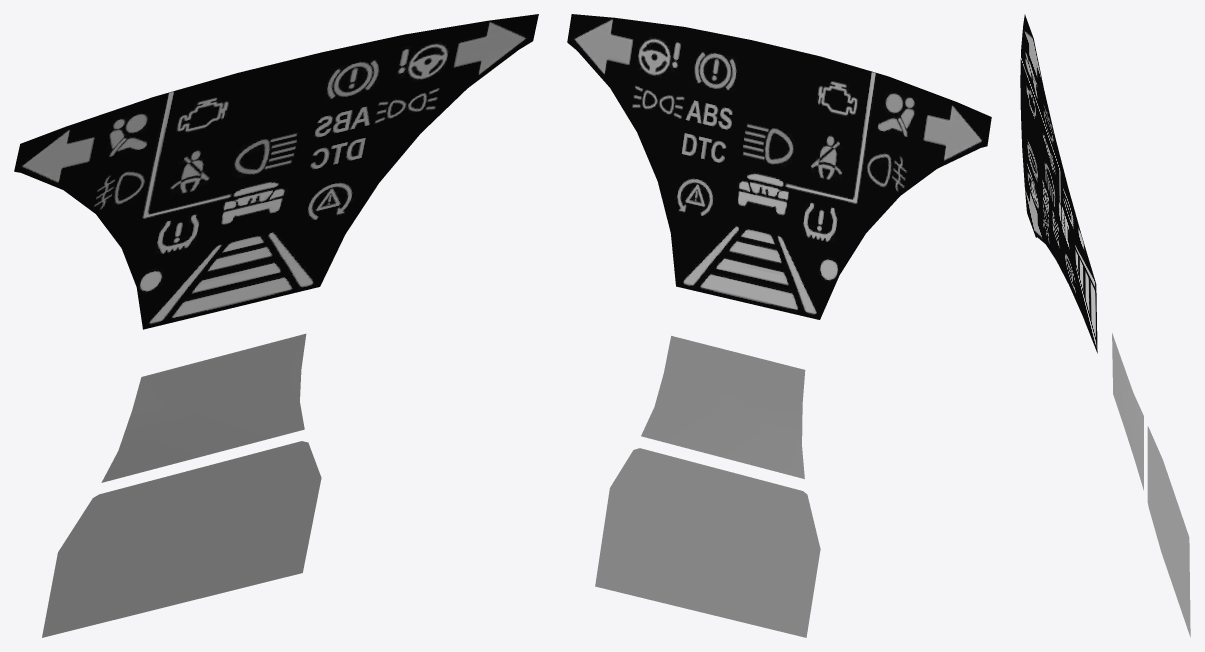
Rendered from Warnings.fbx.
3 renders of one model, left to right at view 1: azimuth 30°, elevation 25°; view 2: azimuth 150°, elevation 25°; view 3: azimuth 270°, elevation 25°, orthographic. The views are drawn at different scales.
Visible parts, largest first — view 1: DASHBOARD_TOP, DASHBOARD_BOTTOM; view 2: DASHBOARD_TOP, DASHBOARD_BOTTOM; view 3: DASHBOARD_TOP, DASHBOARD_BOTTOM.
Part boxes in pixels (left/top/right/bottom): DASHBOARD_TOP: left=14, top=14, right=538, bottom=329; DASHBOARD_BOTTOM: left=42, top=333, right=321, bottom=637; DASHBOARD_TOP: left=567, top=14, right=991, bottom=319; DASHBOARD_BOTTOM: left=595, top=336, right=820, bottom=637; DASHBOARD_TOP: left=1020, top=14, right=1097, bottom=353; DASHBOARD_BOTTOM: left=1112, top=333, right=1190, bottom=637.
Bounding box in the file's own units: 0.0922 × 0.1052 × 0.033.
